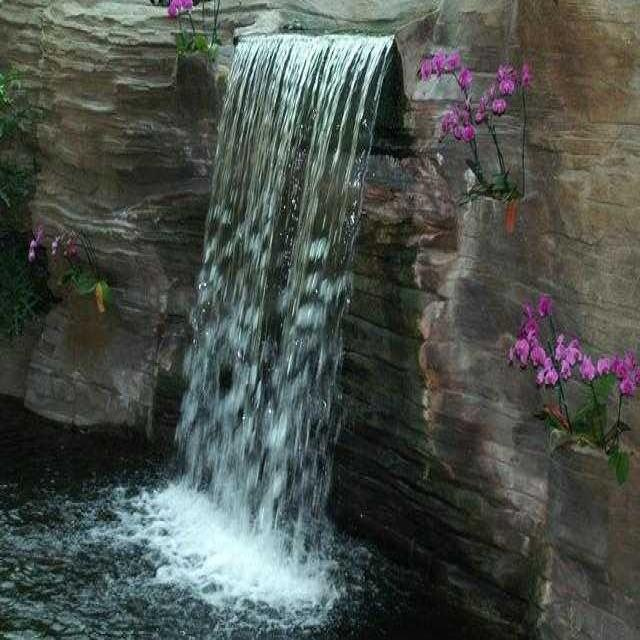Ponds: (8, 397, 542, 640)
